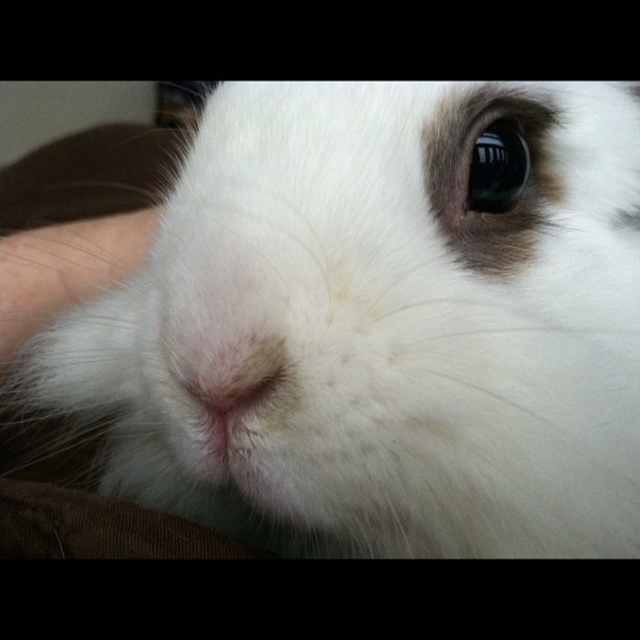Rabbit: (0, 80, 640, 560)
